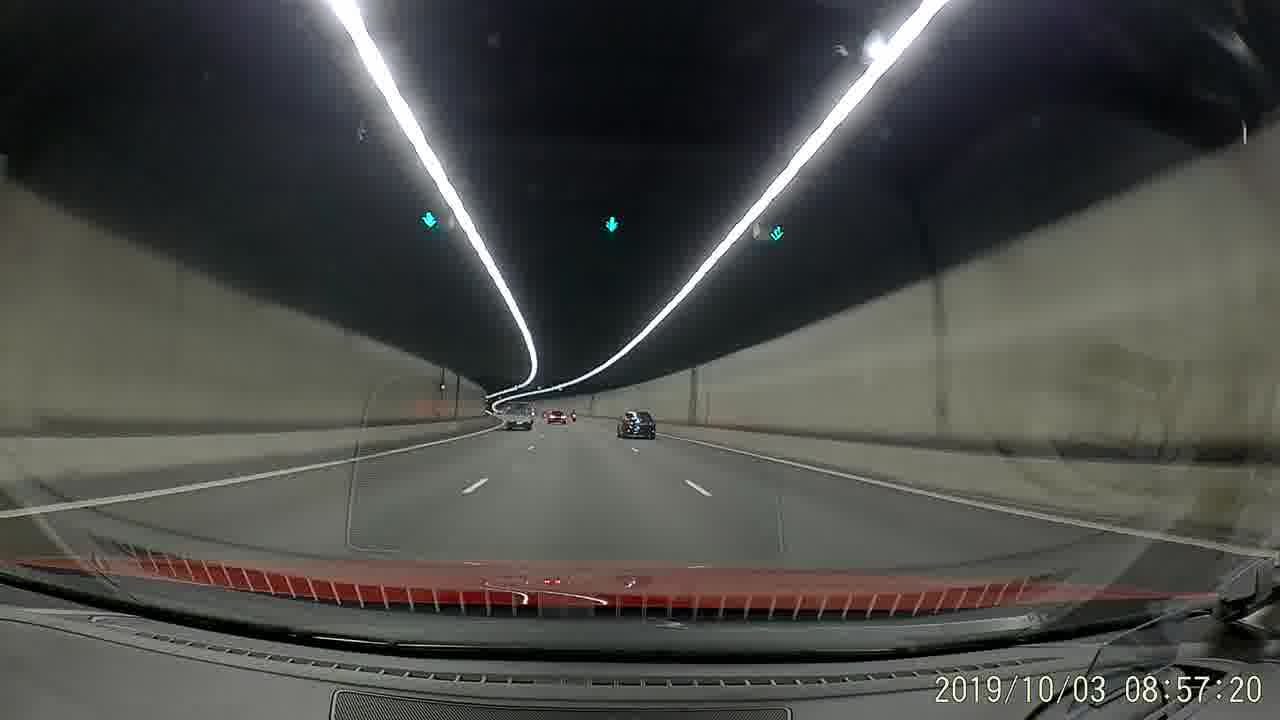car: (615, 408, 657, 442), (545, 406, 567, 426)
